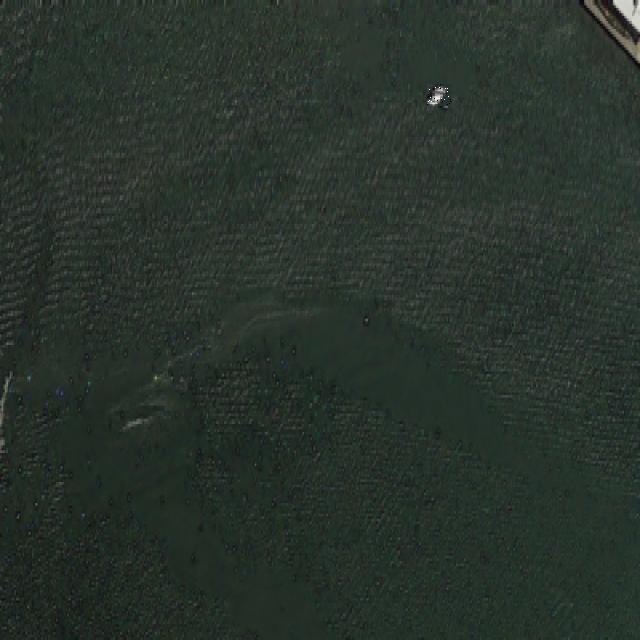boat: (427, 83, 451, 107)
